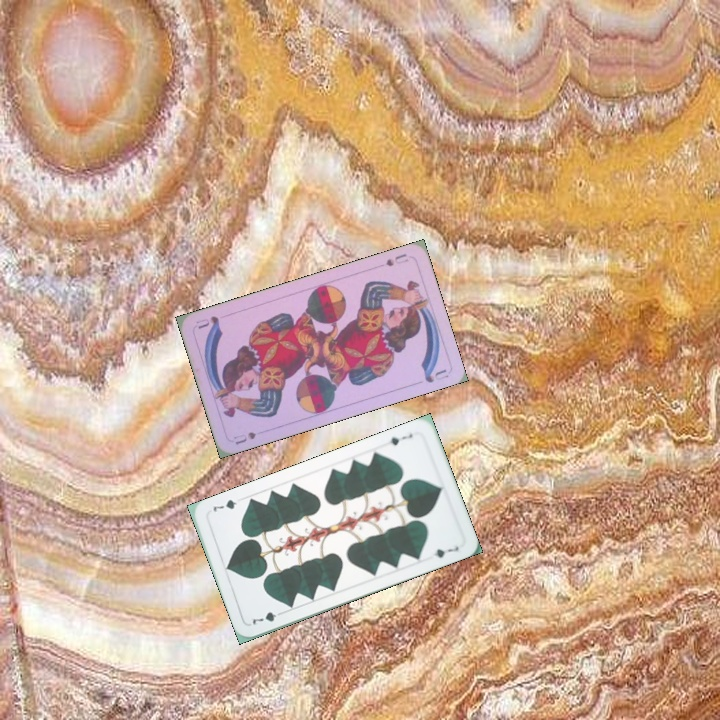G7: (248, 607, 286, 628), (386, 429, 415, 448)
SU: (382, 249, 411, 269), (230, 428, 259, 447)
